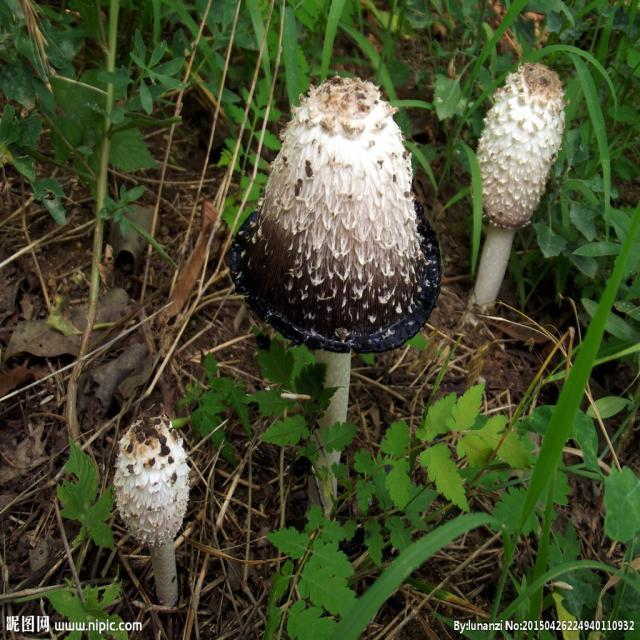Coprinus comatus: (230, 74, 440, 514), (467, 59, 565, 339), (113, 414, 191, 601)
